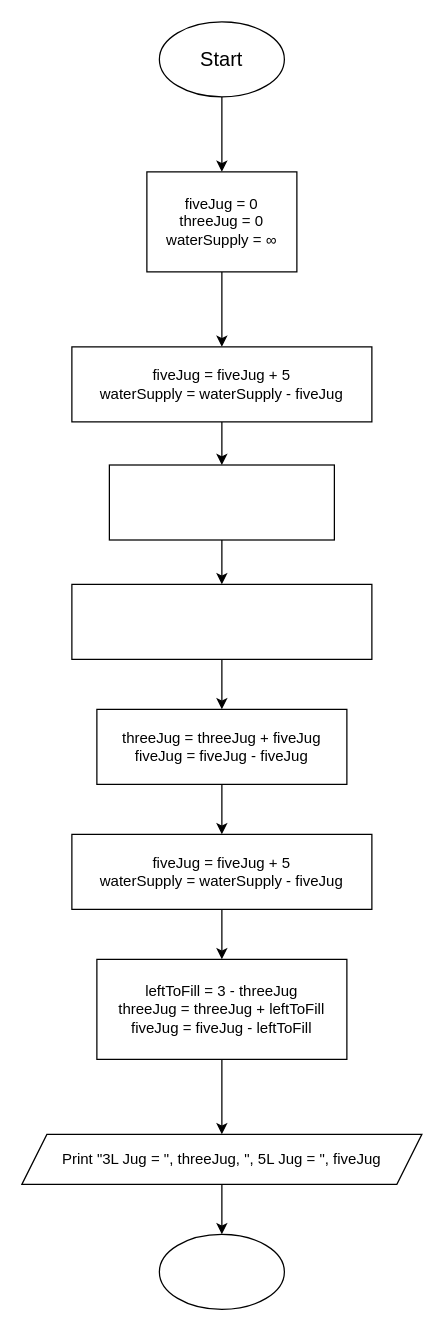
The diagram is 444 pixels wide and 1331 high, and some of its shapes have lost their labels. The shapes that lost their labels are listed below. From the top down, each one's centre as x and y in pixels, then its label:
pixel 221 502: threeJug = threeJug + 3 fiveJug = fiveJug - 3
pixel 221 621: waterSupply = waterSupply + threeJug threeJug = threeJug - threeJug
pixel 221 1271: End
